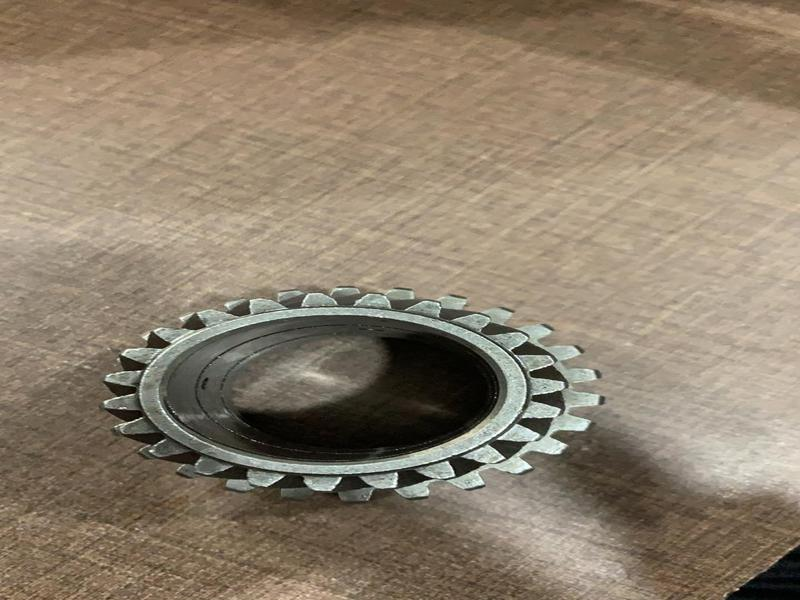engine gear ape: (95, 274, 626, 517)
